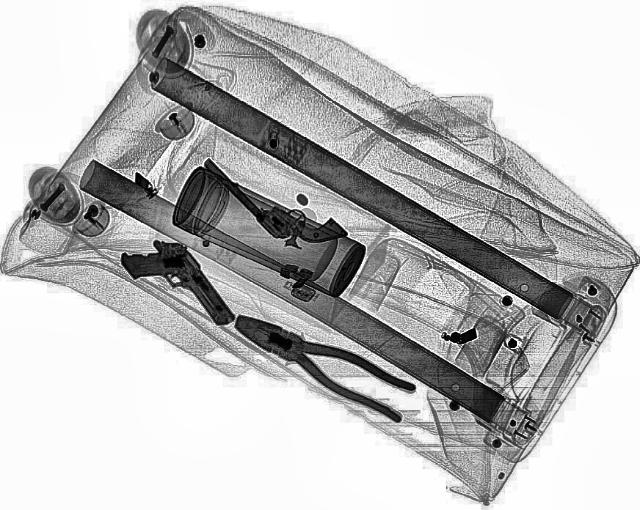Gun: (198, 134, 348, 262), (114, 230, 240, 343)
Pliers: (218, 299, 430, 425)
